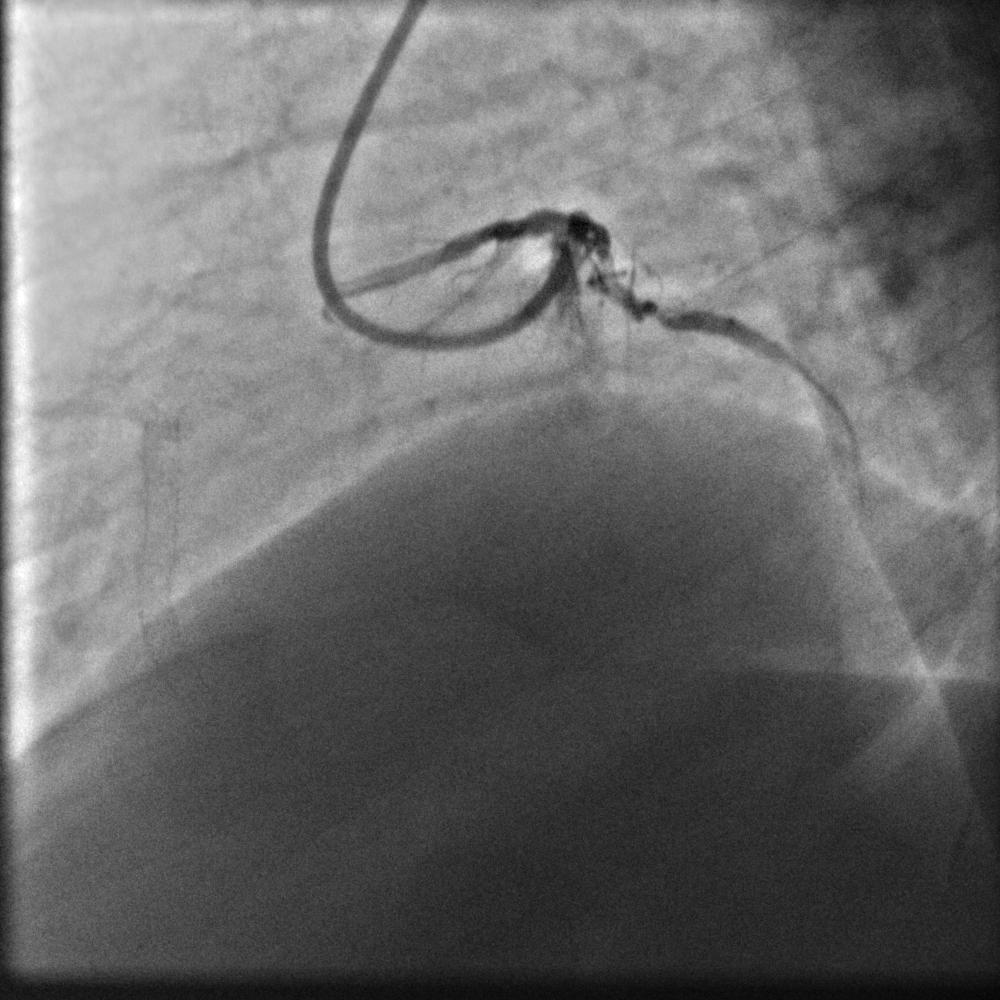Stenosis: (657, 303, 677, 331)
